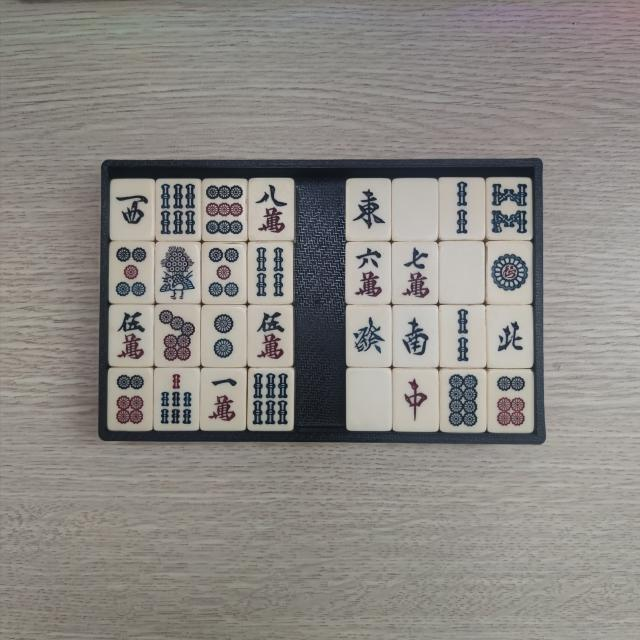hdg: (349, 311, 387, 364)
hdr: (398, 372, 433, 428)
hdw: (444, 246, 482, 302), (398, 183, 436, 237), (350, 374, 386, 428)
hwe: (350, 183, 388, 237)
hwn: (492, 309, 528, 365)
hws: (398, 309, 434, 363)
hww: (112, 184, 150, 238)
sb1: (160, 246, 198, 302)
sb2: (443, 180, 482, 238), (444, 308, 482, 366)
sb4: (253, 245, 289, 301)
sb6: (252, 371, 292, 426), (160, 182, 198, 238)
sb7: (157, 370, 196, 426)
sb8: (490, 181, 530, 238)
sc1: (205, 372, 242, 426)
sc5: (253, 308, 290, 362), (112, 308, 148, 362)
sc6: (352, 246, 388, 302)
sc7: (397, 245, 434, 302)
sc8: (253, 181, 291, 238)
sd1: (488, 246, 530, 302)
sd2: (206, 308, 242, 363)
sd5: (112, 246, 150, 302), (205, 247, 242, 302)
sd6: (492, 372, 528, 428), (111, 372, 148, 426)
sd7: (158, 310, 198, 366)
sd8: (444, 373, 482, 429)
sd9: (204, 184, 244, 238)
